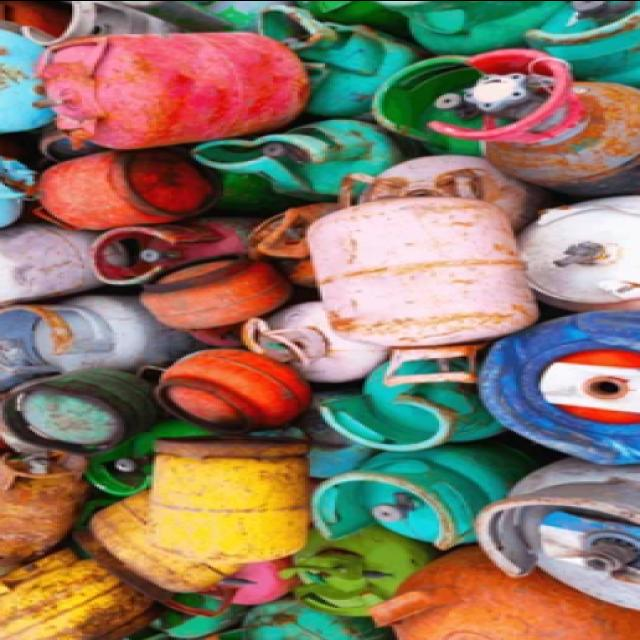cylinder: (305, 196, 541, 386), (32, 31, 311, 149), (426, 47, 638, 199), (311, 438, 566, 549), (148, 434, 309, 563), (0, 294, 218, 373), (26, 144, 223, 230)
